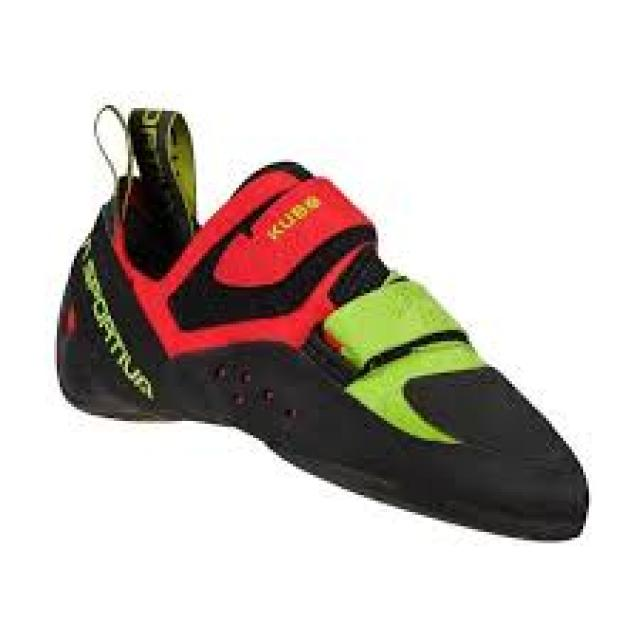climbing-shoes: (54, 101, 592, 543)
